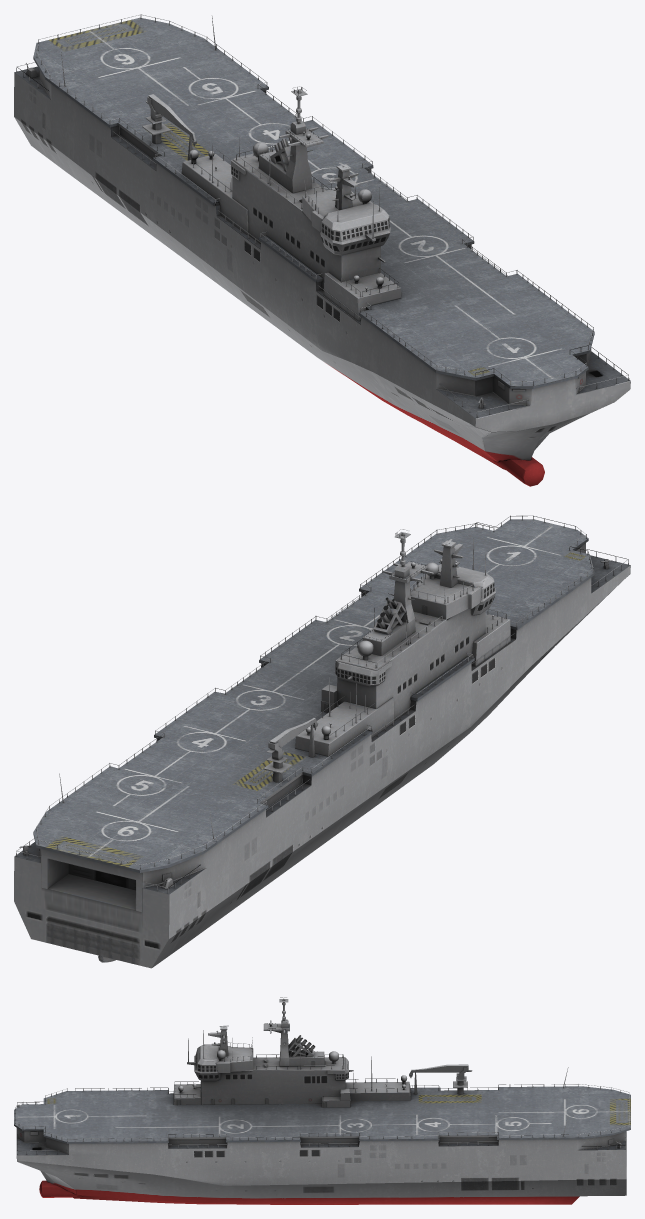
The model's file is mistral_class_lhd.glb.
3 renders of one model, top to bottom at view 1: azimuth 30°, elevation 25°; view 2: azimuth 150°, elevation 25°; view 3: azimuth 270°, elevation 25°, orthographic. The views are drawn at different scales.
Visible parts, largest first — view 1: Object_2; view 2: Object_2; view 3: Object_2.
Part boxes in pixels (x1,y1,x2,y2): Object_2: (14, 14, 630, 486); Object_2: (14, 515, 630, 968); Object_2: (14, 997, 630, 1204).
Size of the model in its own units: 1.21 by 2 by 6.07.
1 material, 1 textured.
